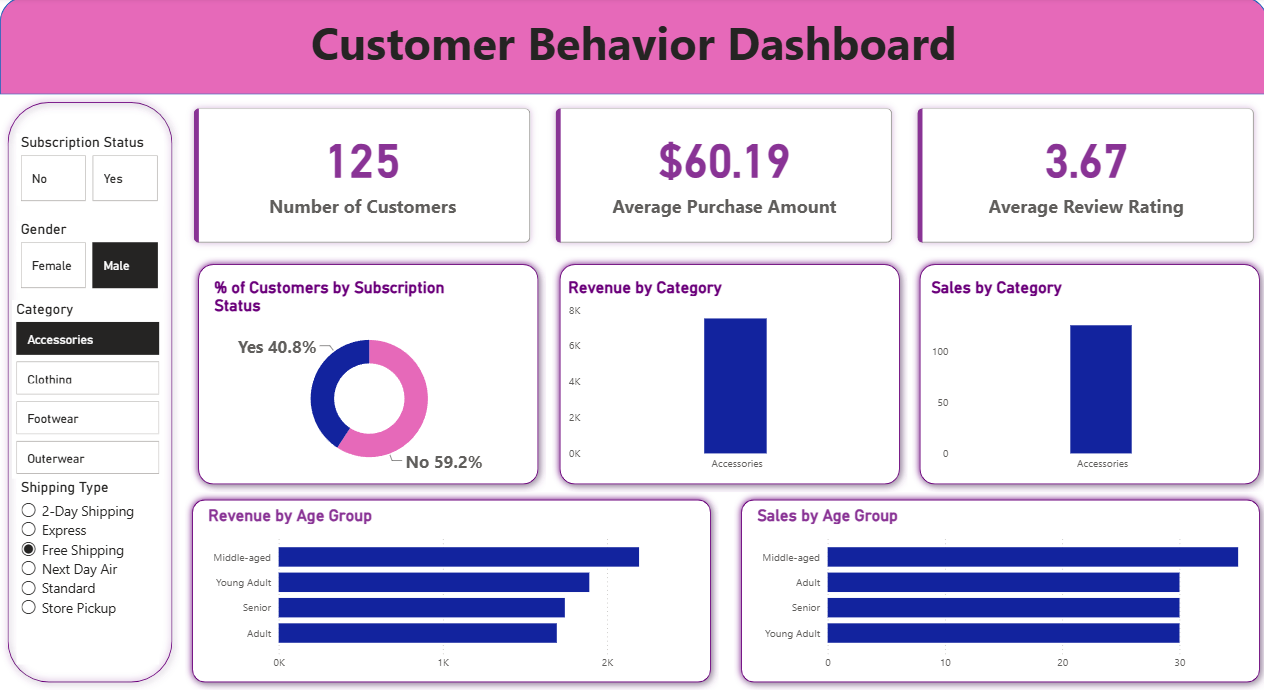

This screenshot's page, from the dashboard's own definition file:
{"tool":"powerbi","page":{"name":"Page 1","canvas":[1500,820],"ordinal":0},"visuals":[{"type":"cardVisual","fields":{"Data":["public customer.Number of Customers","public customer.Average Purchase Amount","public customer.Average Review Rating"]},"box":[212.9,115.3,1286.5,191.6],"z":2000},{"type":"shape","box":[218.3,585.6,631.7,234.2],"z":2500,"group":"g1"},{"type":"shape","box":[0,0,1499.4,115.3],"z":3000},{"type":"textbox","box":[0,12.4,1499.4,102.9],"z":4000},{"type":"shape","box":[225.4,307,420.5,278.6],"z":5000},{"type":"donutChart","title":"% of Customers by Subscription Status","fields":{"Category":["public customer.subscription_status"],"Y":["CountNonNull(public customer.customer_id)"]},"box":[248.4,331.8,376.2,237.8],"z":6000},{"type":"shape","box":[1078.9,307,420.5,278.6],"z":7000},{"type":"shape","box":[652.1,307,420.5,278.6],"z":8000},{"type":"clusteredColumnChart","title":"Revenue by Category","fields":{"Y":["Sum(public customer.purchase_amount)"],"Category":["public customer.category"]},"box":[667.2,331.8,385.1,237.8],"z":9000},{"type":"clusteredColumnChart","title":"Sales by Category","fields":{"Y":["CountNonNull(public customer.customer_id)"],"Category":["public customer.category"]},"box":[1096.6,331.8,385.1,237.8],"z":10000},{"type":"shape","box":[0,115.3,212.9,704.5],"z":11000},{"type":"advancedSlicerVisual","fields":{"Values":["public customer.subscription_status"]},"box":[19.5,161.5,173.9,85.2],"z":12000},{"type":"advancedSlicerVisual","fields":{"Values":["public customer.gender"]},"box":[19.5,264.4,173.9,85.2],"z":13000},{"type":"advancedSlicerVisual","fields":{"Values":["public customer.category"]},"box":[14.2,358.4,179.2,211.2],"z":14000},{"type":"listSlicer","fields":{"Values":["public customer.shipping_type"]},"box":[19.5,569.6,168.6,220],"z":15000},{"type":"shape","box":[867.7,585.6,631.7,234.2],"z":16000},{"type":"clusteredBarChart","title":"Sales by Age Group","fields":{"Y":["CountNonNull(public customer.customer_id)"],"Category":["public customer.age_group"]},"box":[890.8,601.5,585.6,204.1],"z":17000},{"type":"clusteredBarChart","title":"Revenue by Age Group","fields":{"Y":["Sum(public customer.purchase_amount)"],"Category":["public customer.age_group"]},"box":[241.4,601.6,585.6,204.1],"z":17500,"group":"g1"},{"type":"group","id":"g1","title":"Group 1","box":[218.3,585.6,631.7,234.2],"z":17501}]}

Visuals, with their boxes in screenshot pixels (x1, y1, x2, y2), scaled from the page's 1500x820 canvas onto the 1264x690 screenshot:
cardVisual - public customer.Number of Customers x public customer.Average Purchase Amount: x1=179, y1=97, x2=1263, y2=258
shape: x1=184, y1=493, x2=716, y2=689
shape: x1=0, y1=0, x2=1263, y2=97
textbox: x1=0, y1=10, x2=1263, y2=97
shape: x1=190, y1=258, x2=544, y2=493
"% of Customers by Subscription Status" donutChart: x1=209, y1=279, x2=526, y2=479
shape: x1=909, y1=258, x2=1263, y2=493
shape: x1=550, y1=258, x2=904, y2=493
"Revenue by Category" clusteredColumnChart: x1=562, y1=279, x2=887, y2=479
"Sales by Category" clusteredColumnChart: x1=924, y1=279, x2=1249, y2=479
shape: x1=0, y1=97, x2=179, y2=689
advancedSlicerVisual - public customer.subscription_status: x1=16, y1=136, x2=163, y2=208
advancedSlicerVisual - public customer.gender: x1=16, y1=222, x2=163, y2=294
advancedSlicerVisual - public customer.category: x1=12, y1=302, x2=163, y2=479
listSlicer - public customer.shipping_type: x1=16, y1=479, x2=159, y2=664
shape: x1=731, y1=493, x2=1263, y2=689
"Sales by Age Group" clusteredBarChart: x1=751, y1=506, x2=1244, y2=678
"Revenue by Age Group" clusteredBarChart: x1=203, y1=506, x2=697, y2=678
"Group 1" group: x1=184, y1=493, x2=716, y2=689
